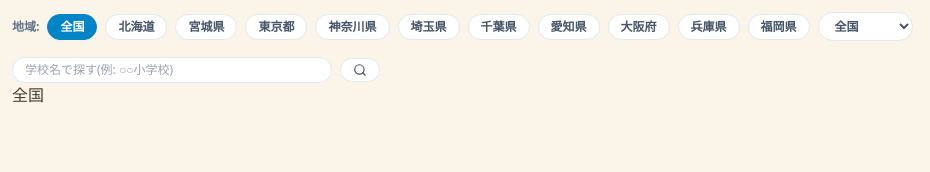
it: 報告一覧の地域フィルタ(フック+UI) › 別の県を見てから戻ると、その県で最後に選んだ市町村を復元する
This screenshot has width=930, height=172.
Step 1. Select "東京都" in the dropdown named "都道府県を選ぶ" → (865, 26), box [818,12,913,41]
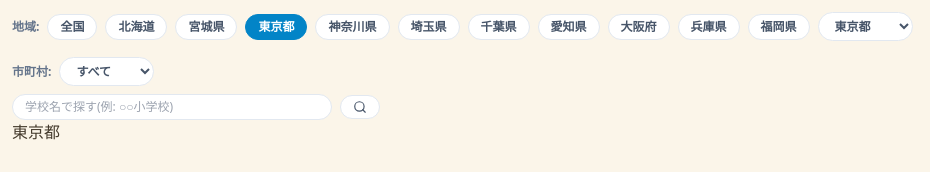
Step 2. Select "港区" in the dropdown named "市町村を選ぶ" → (107, 72), box [59,57,154,86]
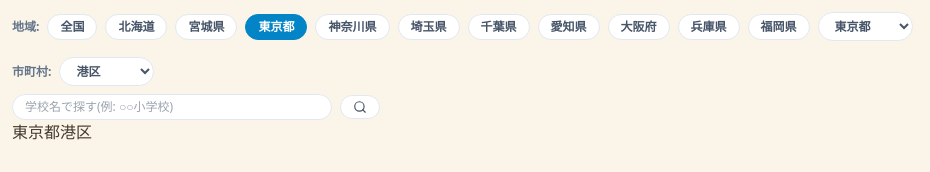
Step 3. Select "大阪府" in the dropdown named "都道府県を選ぶ" → (865, 26), box [818,12,913,41]
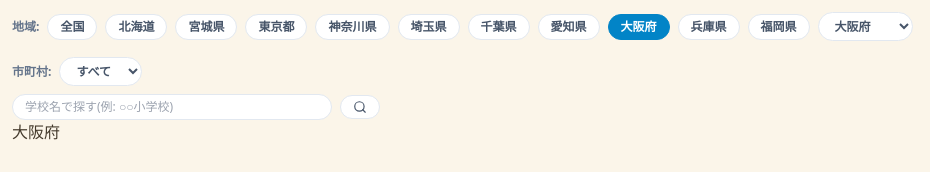
Step 4. Select "東京都" in the dropdown named "都道府県を選ぶ" → (865, 26), box [818,12,913,41]
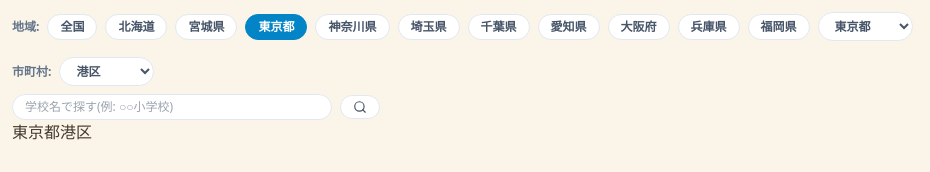
Expected: the text with test id "scope" reads "東京都港区", [12,121,92,143]
